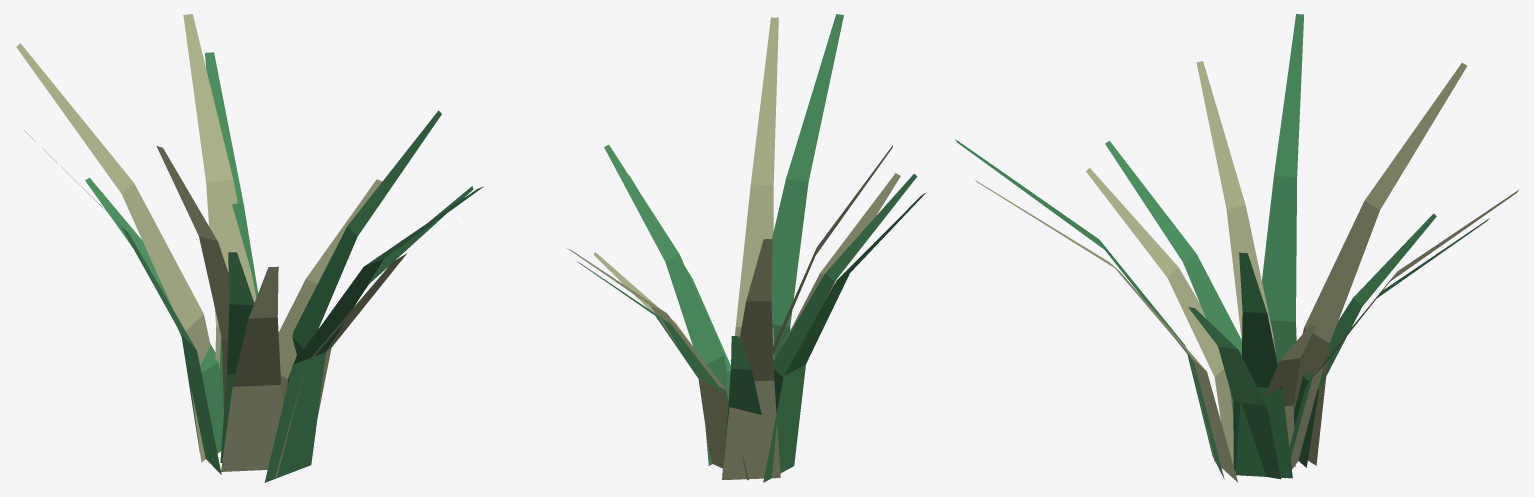
File: grass.glb
3 renders of one model, left to right at view 1: azimuth 30°, elevation 25°; view 2: azimuth 150°, elevation 25°; view 3: azimuth 270°, elevation 25°, orthographic. The views are drawn at different scales.
Visible parts, largest first — view 1: grass; view 2: grass; view 3: grass.
Part boxes in pixels (bbox=[...]): grass: bbox=[16, 14, 483, 482]; grass: bbox=[567, 14, 926, 482]; grass: bbox=[955, 14, 1519, 482].
Size of the model in its own units: 0.4214 by 0.3789 by 0.5516.
